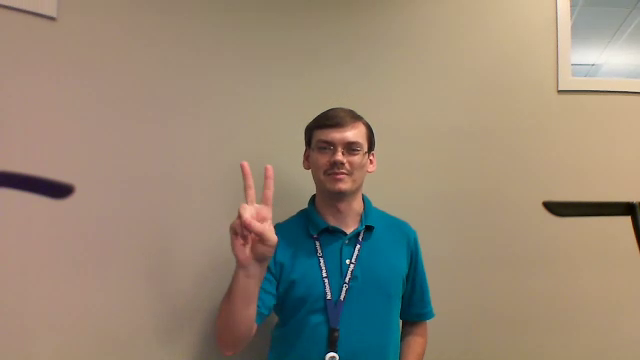peace: (215, 157, 287, 274)
